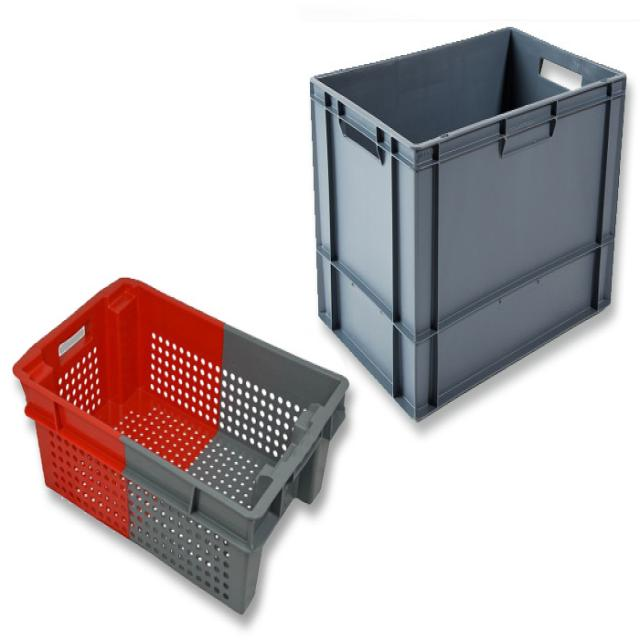basket: (0, 226, 377, 615)
